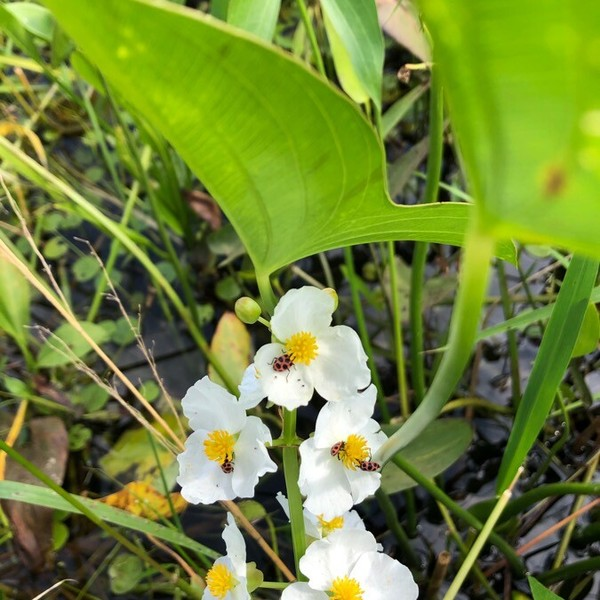obstacle: (53, 90, 426, 569), (205, 267, 427, 586)
